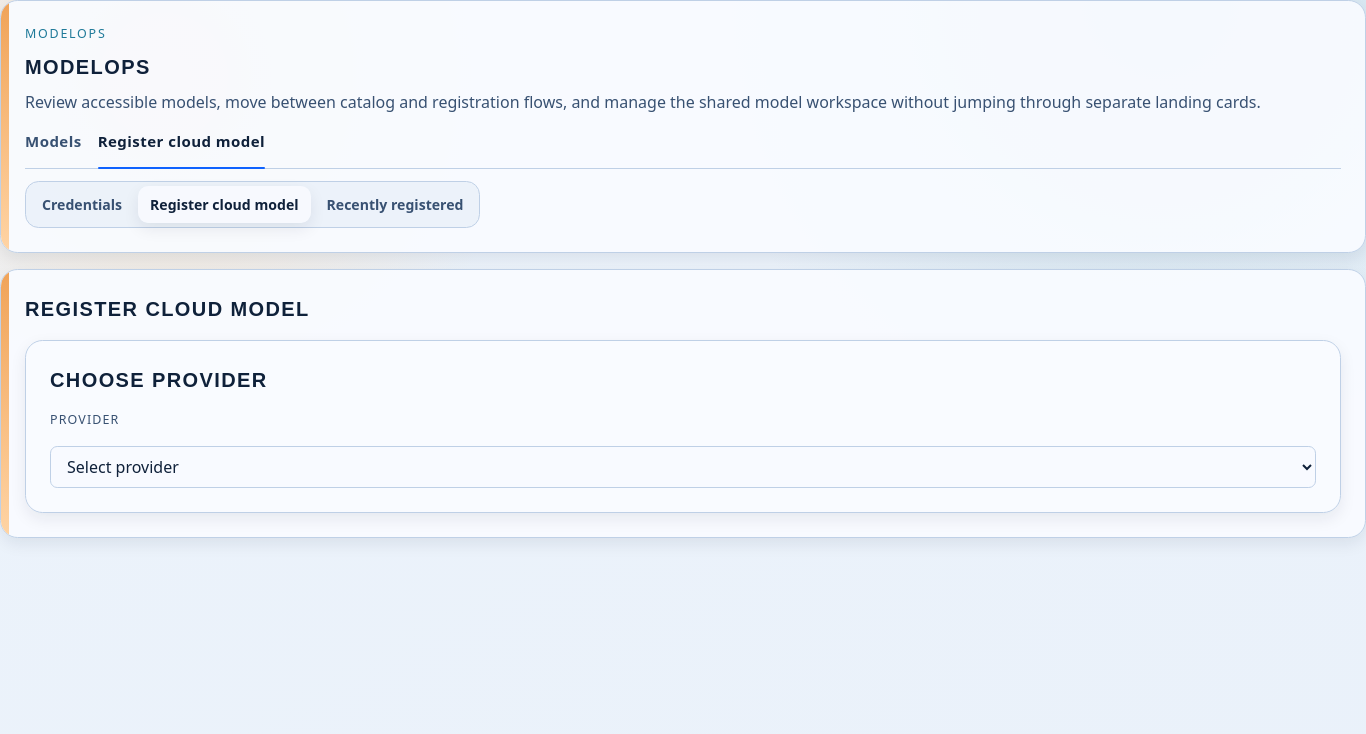
Test: CloudModelRegisterPage › switches between URL-driven subviews
Click the button "Credentials" at (82, 205), box [30, 186, 134, 223]
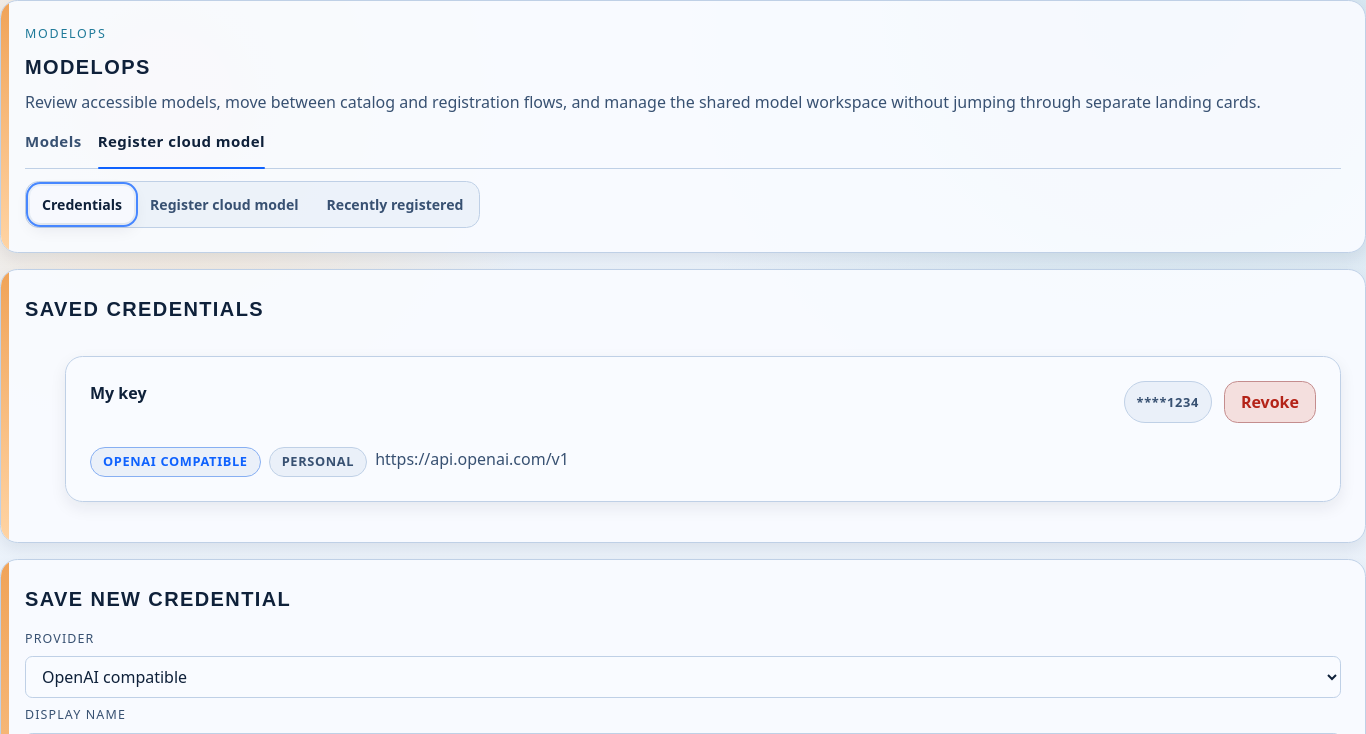
Now the heading "Saved credentials" is shown, box [25, 298, 264, 320]
Now the heading "Save new credential" is shown, box [25, 588, 291, 610]
Click the button "Recently registered" at (395, 205), box [314, 186, 475, 223]
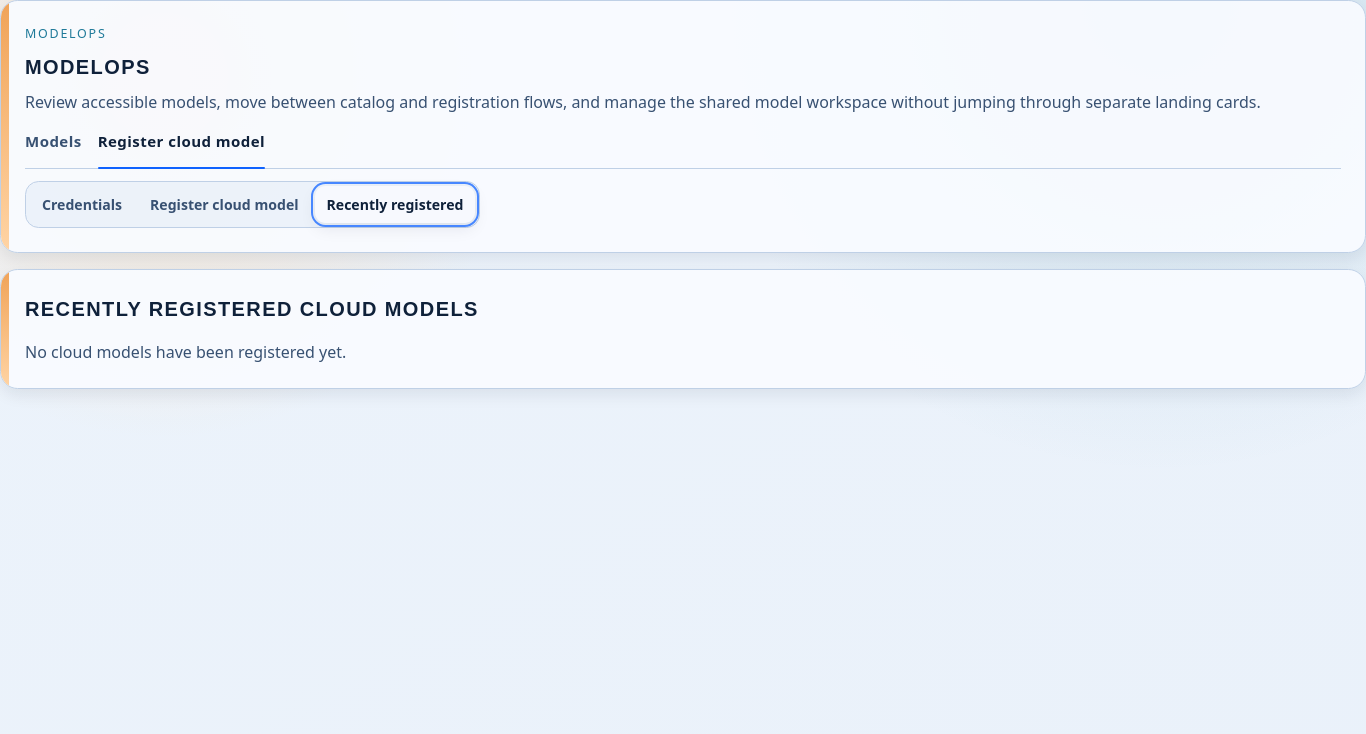
Now the heading "Recently registered cloud models" is shown, box [25, 298, 479, 320]
Now the heading "Saved credentials" is gone
Now the heading "Save new credential" is gone
Click the button "Register cloud model" at (224, 205), box [138, 186, 310, 223]
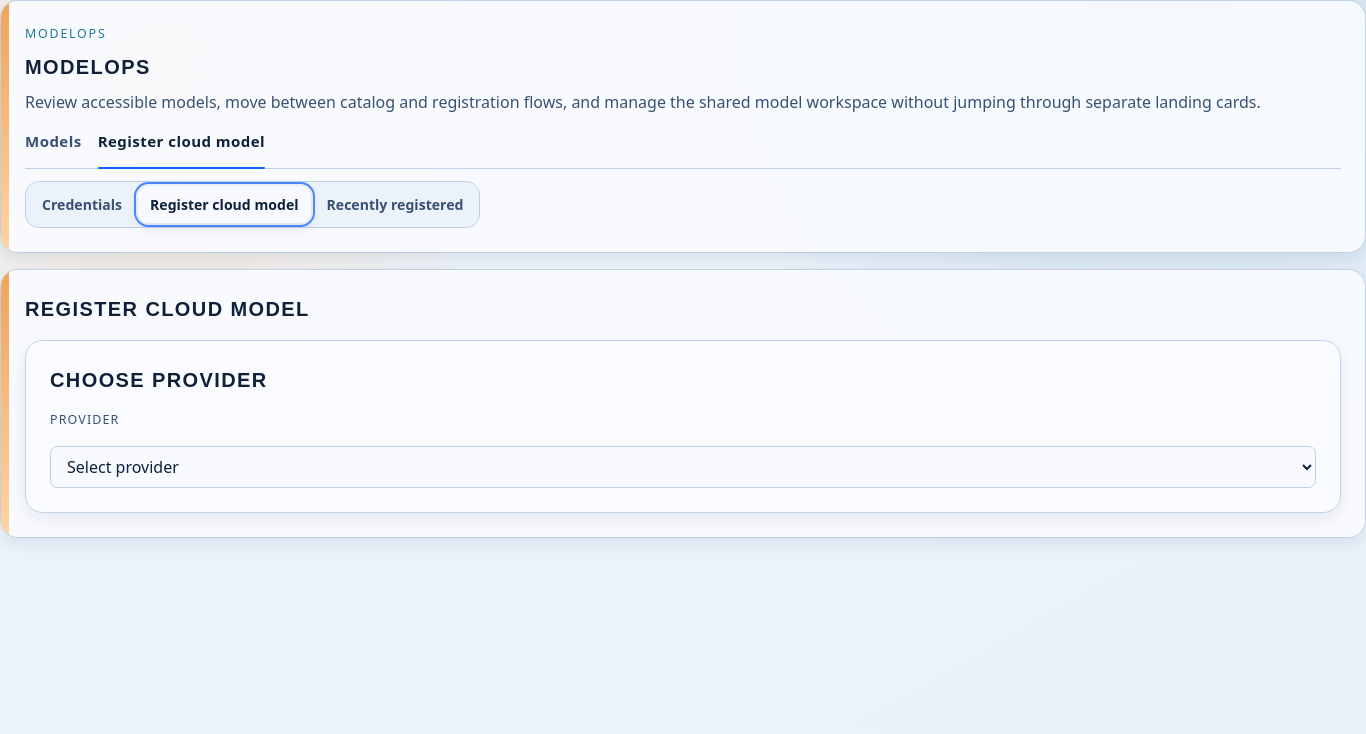
Now the heading "Register cloud model" is shown, box [25, 298, 310, 320]
Now the heading "Recently registered cloud models" is gone
